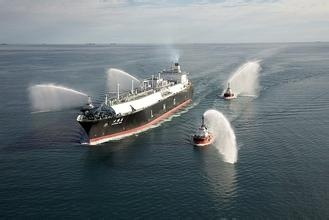Cargoship: (69, 57, 193, 146)
otherboat: (189, 118, 216, 151), (221, 81, 235, 100)
